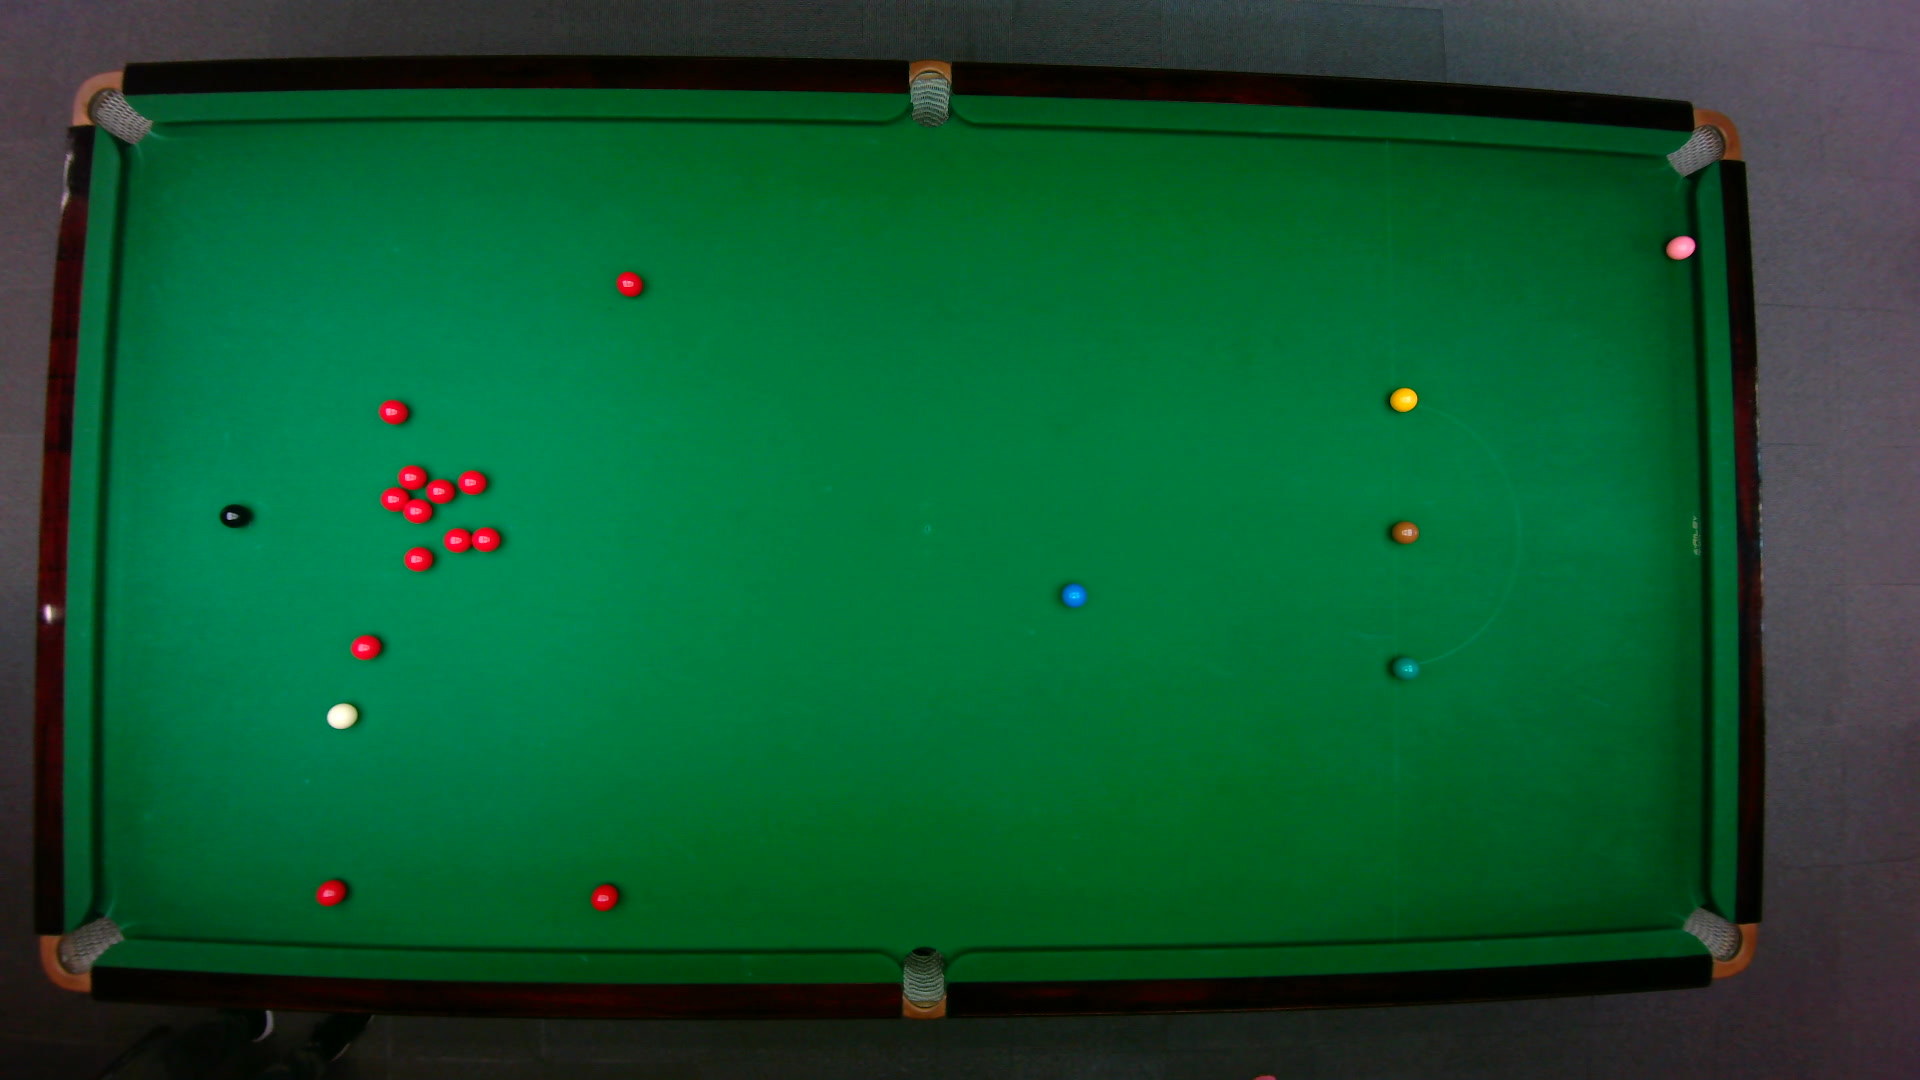bag: (37, 914, 125, 993), (69, 69, 152, 145), (1679, 905, 1756, 978), (1663, 107, 1741, 177), (901, 944, 944, 1021), (909, 57, 949, 128)
black: (218, 502, 251, 527)
blue: (1058, 582, 1087, 608)
brown: (1389, 520, 1419, 545)
green: (1390, 654, 1419, 680)
pink: (1663, 232, 1697, 260)
red: (314, 877, 345, 907), (348, 632, 382, 659), (469, 524, 501, 553), (442, 525, 473, 554), (401, 545, 434, 572), (400, 496, 433, 524), (396, 463, 429, 491), (422, 477, 456, 502), (589, 882, 618, 911), (378, 484, 409, 512), (455, 468, 487, 495), (615, 269, 644, 297), (377, 398, 407, 425)
white: (324, 700, 359, 729)
yellow: (1387, 385, 1418, 411)
zone: (1389, 400, 1519, 667)
